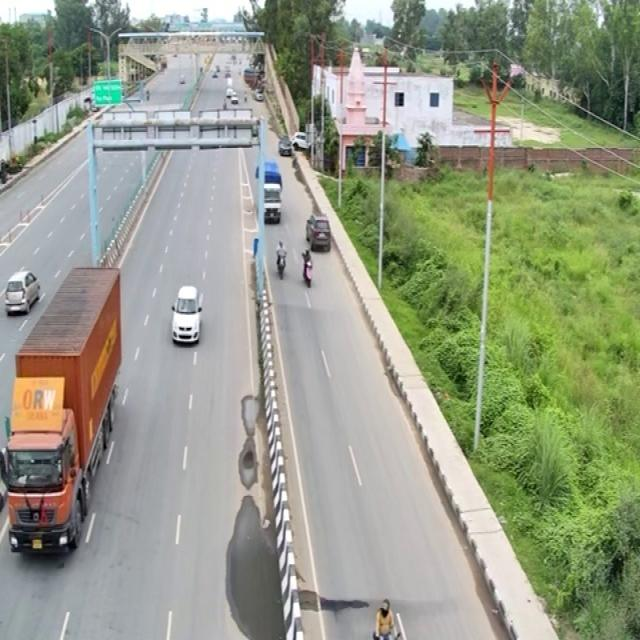car: (168, 280, 205, 349), (1, 268, 42, 317), (303, 208, 336, 249)
